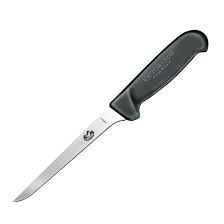knife: (11, 28, 209, 203)
